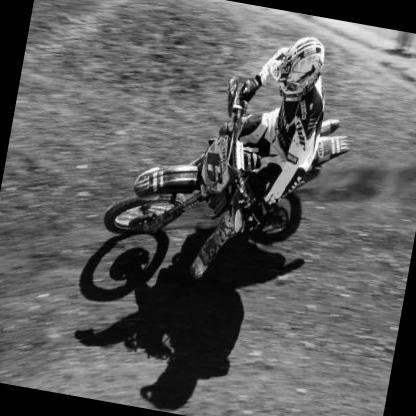moto: (61, 36, 373, 360)
